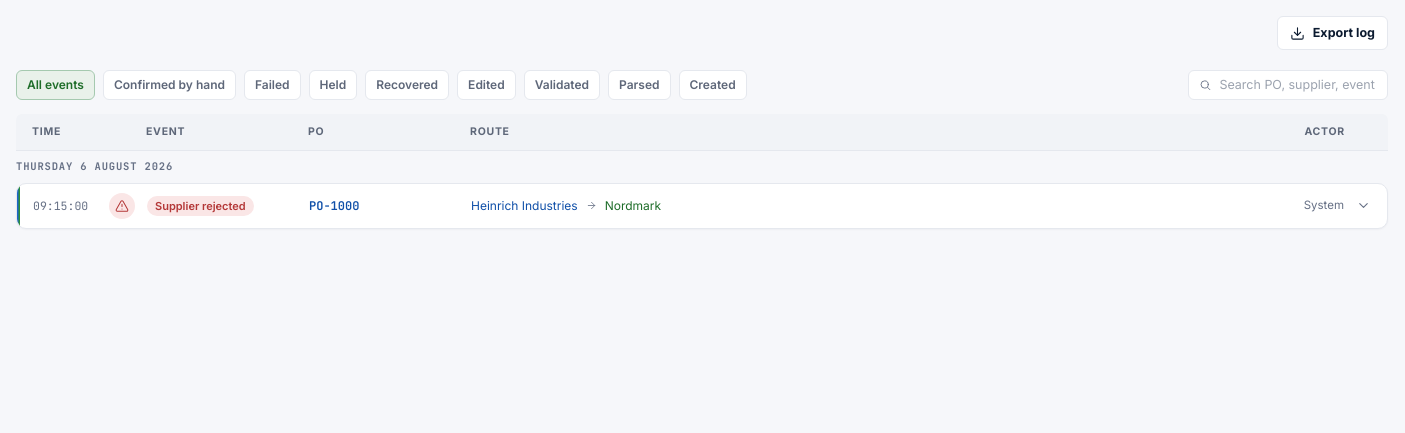
Scenario: expanded failure row — the four shapes are distinguishable › MarkedRejected states how far the order got and what to do now
Click the button "PO-1000": x=61, y=205 [17,184,1387,228]
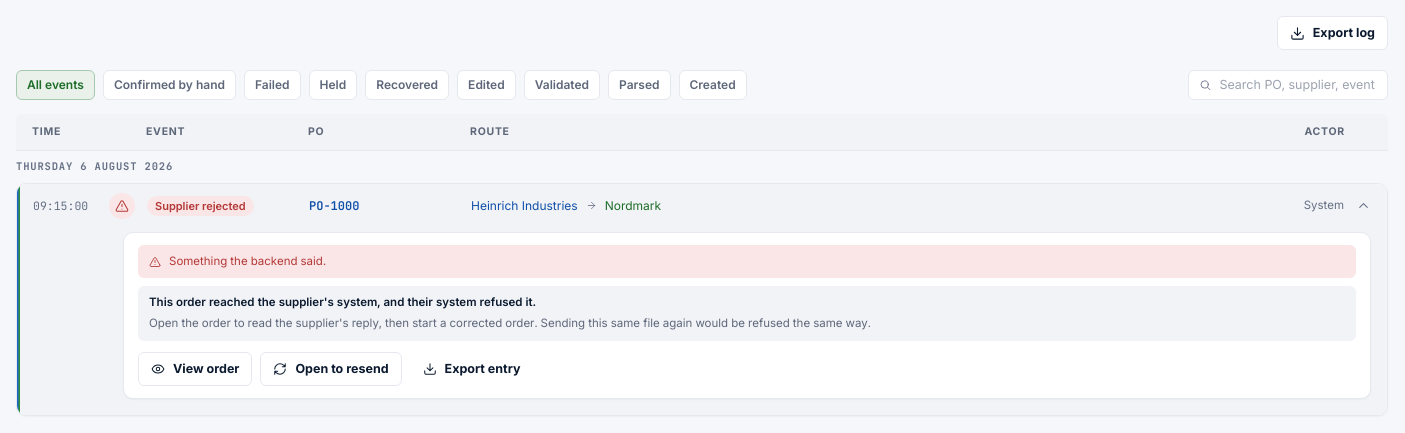
Check: the element with test id "audit-remedy" is shown, box [138,286,1356,341]
Check: the element with test id "audit-remedy" shows "This order reached the supplier's system, and their system refused it.", box [149,295,536,309]
